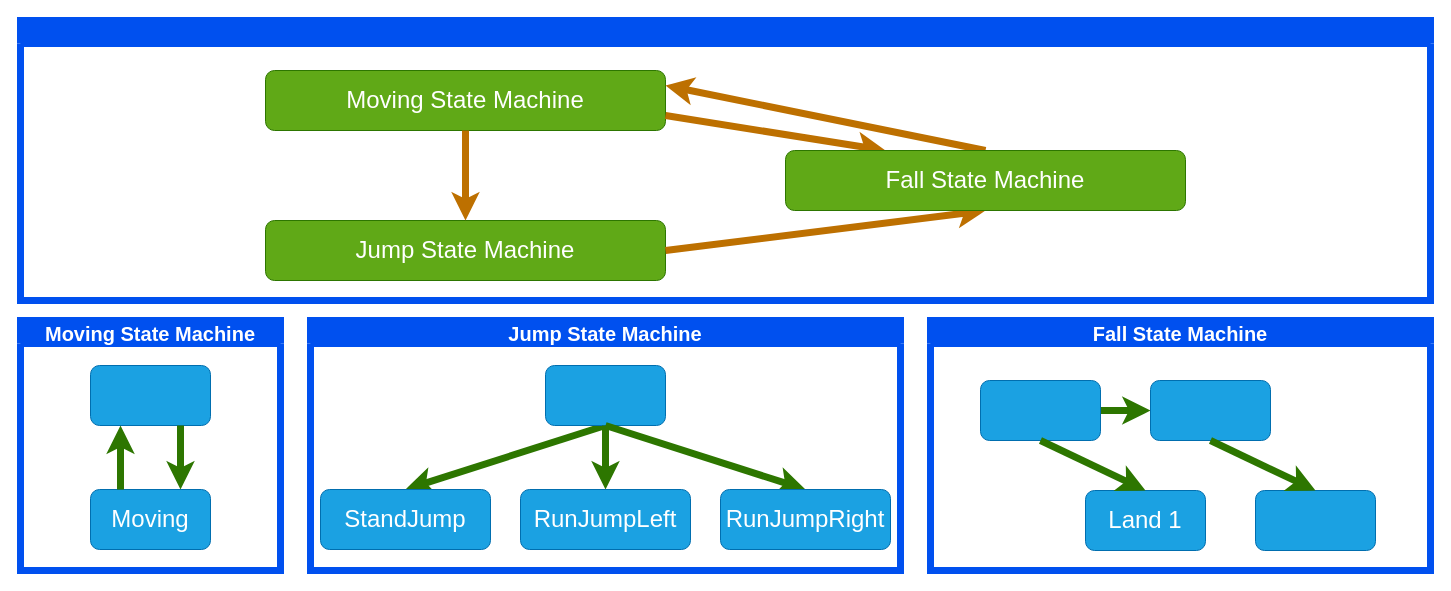
This 1451x591 diagram has some shape labels left out. Here are the shapes that lost their labels. From the top down, the box of each, then its label:
(16, 16, 1434, 304): Movement State Machine
(90, 364, 210, 426): Stand
(544, 364, 666, 426): Enter
(980, 380, 1100, 440): Loop
(1150, 380, 1270, 440): Loop 2
(1254, 490, 1376, 550): Land 2
